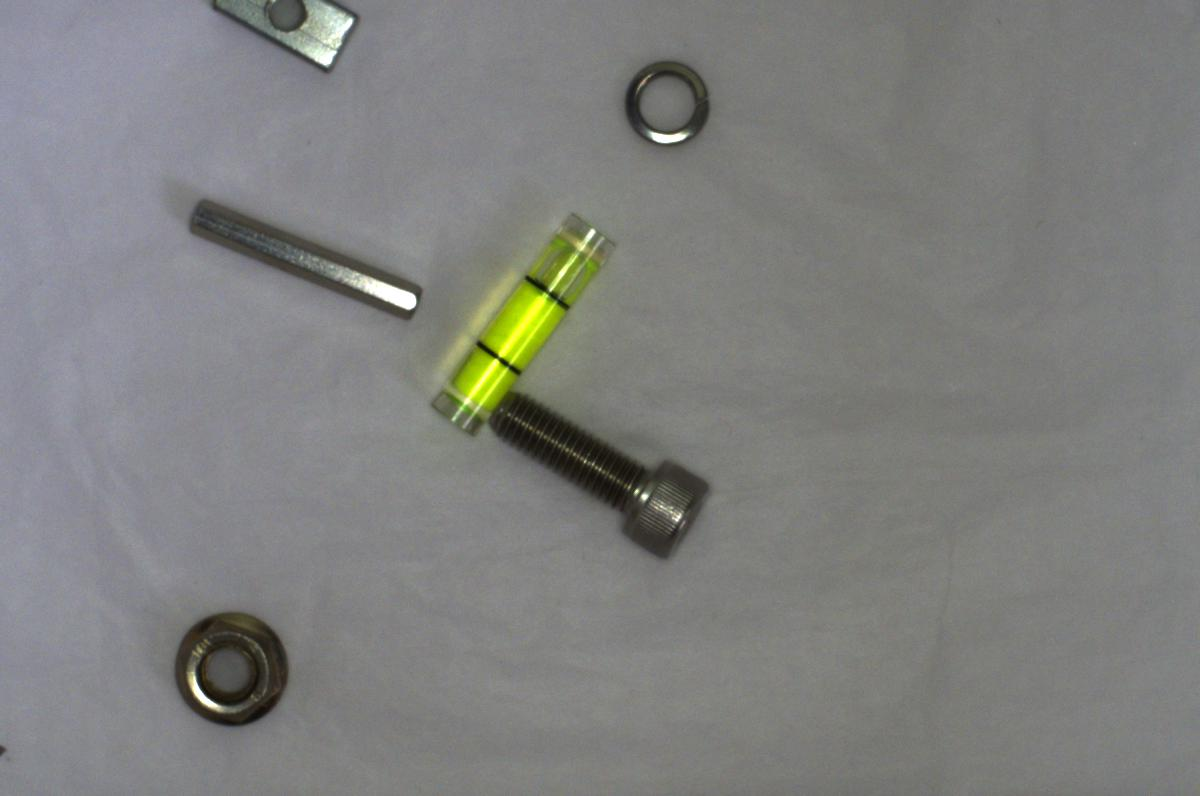Double hexagonal column: (171, 193, 428, 327)
Flange nut: (164, 602, 298, 732)
Hexagon screw: (473, 392, 715, 560)
Horizontal bubble: (424, 208, 621, 440)
Rectangular nut: (206, 1, 365, 73)
Spring washer: (626, 49, 717, 153)
